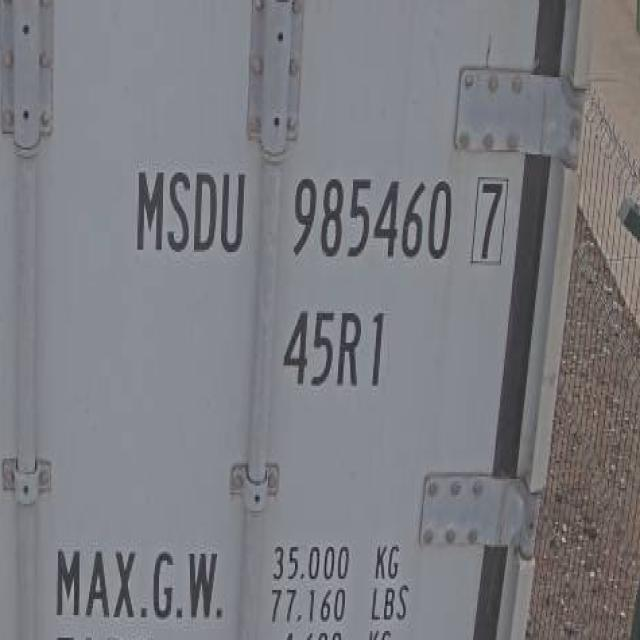dv: (462, 165, 513, 271)
owner: (126, 158, 251, 258)
serial: (281, 164, 456, 270)
size: (279, 301, 386, 391)
